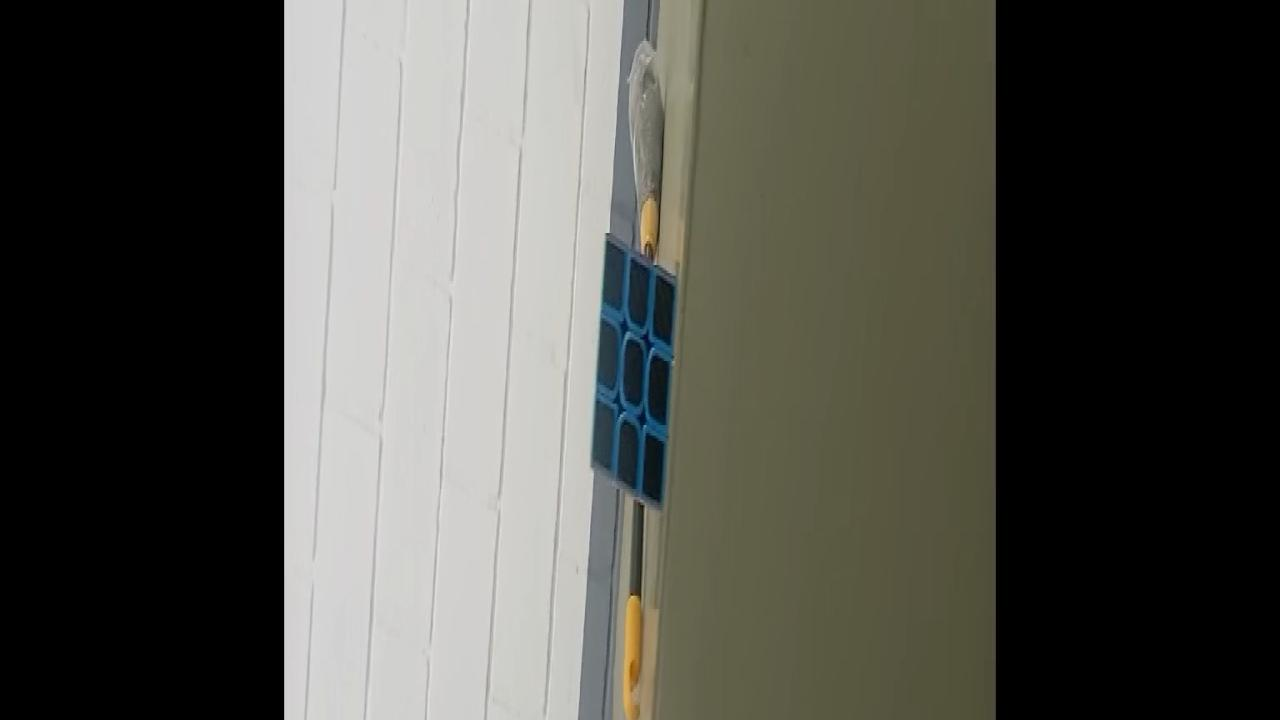Cube: (588, 232, 678, 518)
